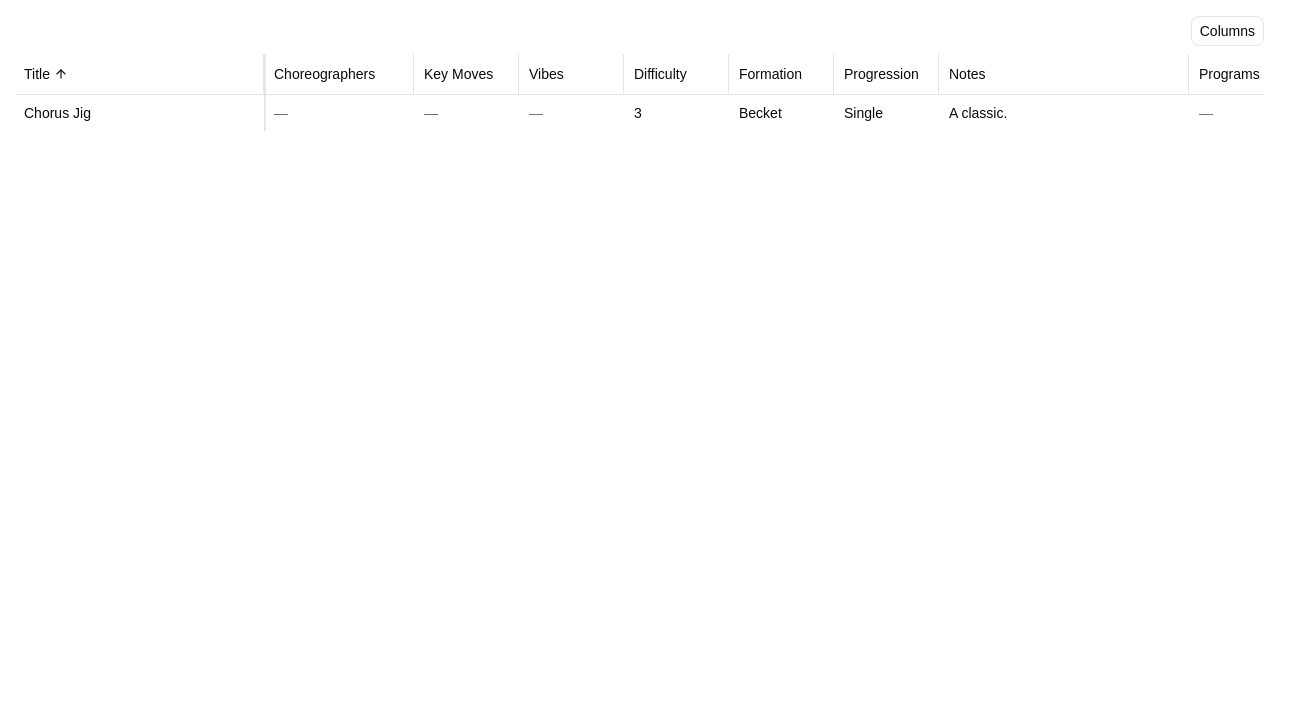
Scenario: DancesPage › column visibility › shows the Dance Type column and its value once toggled on
This screenshot has width=1292, height=720.
Check: the column heading "Dance Type" is not shown
Click the button "Columns": (1227, 31) [1191,16,1264,46]
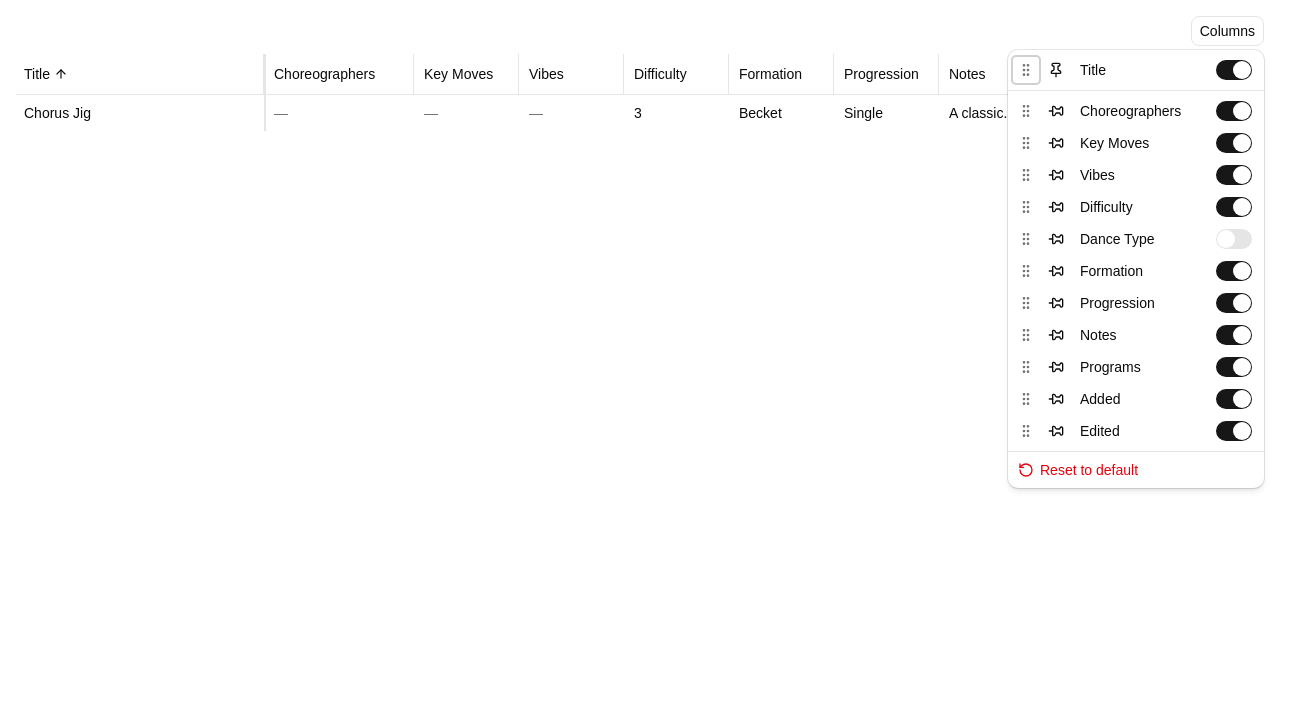
Click the switch named "Dance Type" next to "Dance Type": (1234, 239) [1216,229,1252,249]
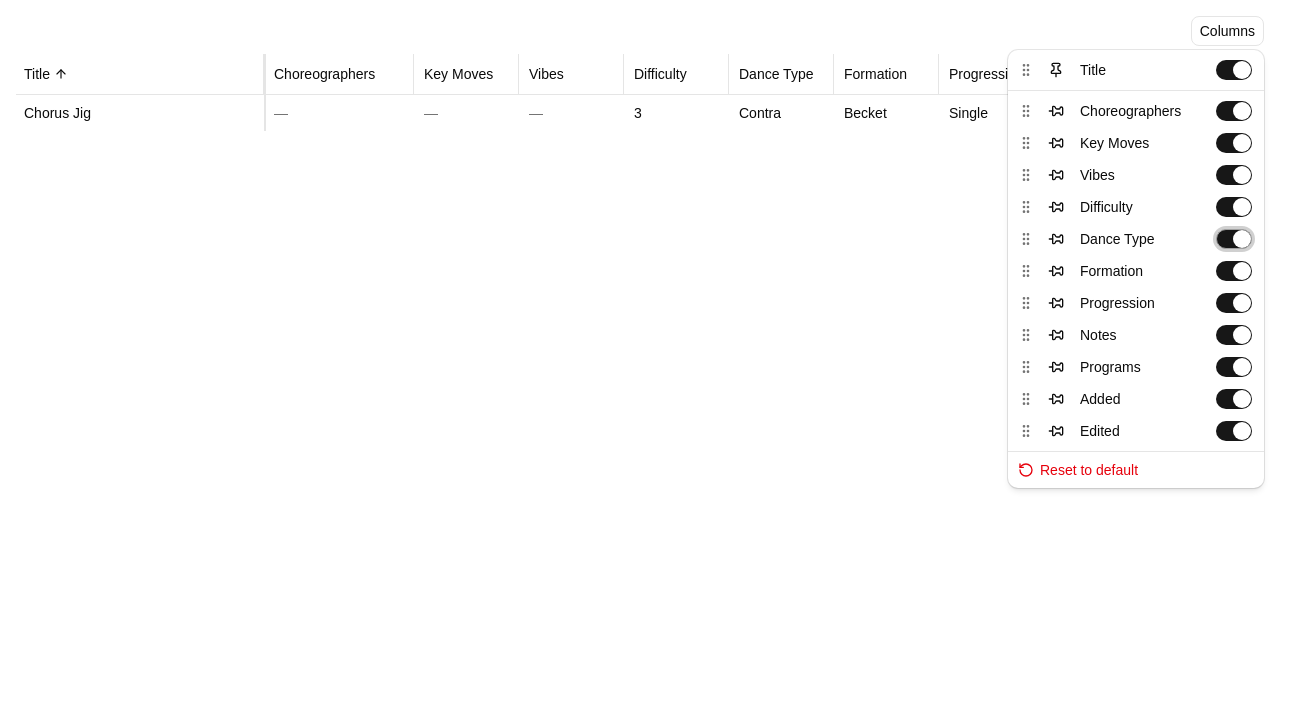
Check: the 6th column heading named "Dance Type" is shown, box [731,54,836,94]
Check: the text "Contra" is shown, box [731,94,836,130]
